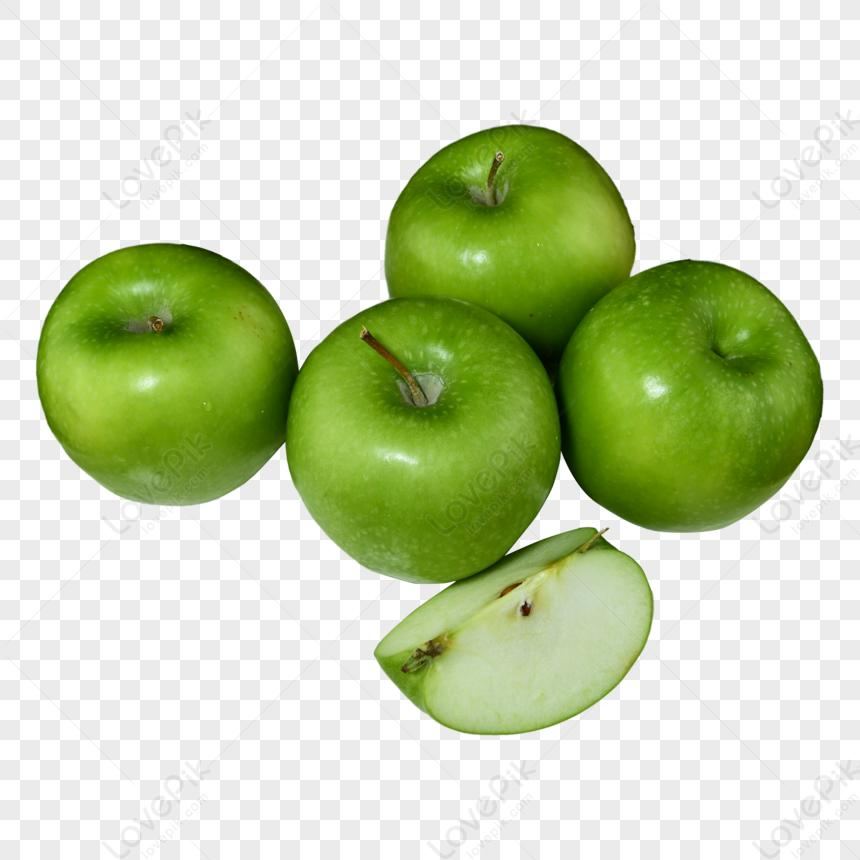apples: (22, 110, 833, 765)
